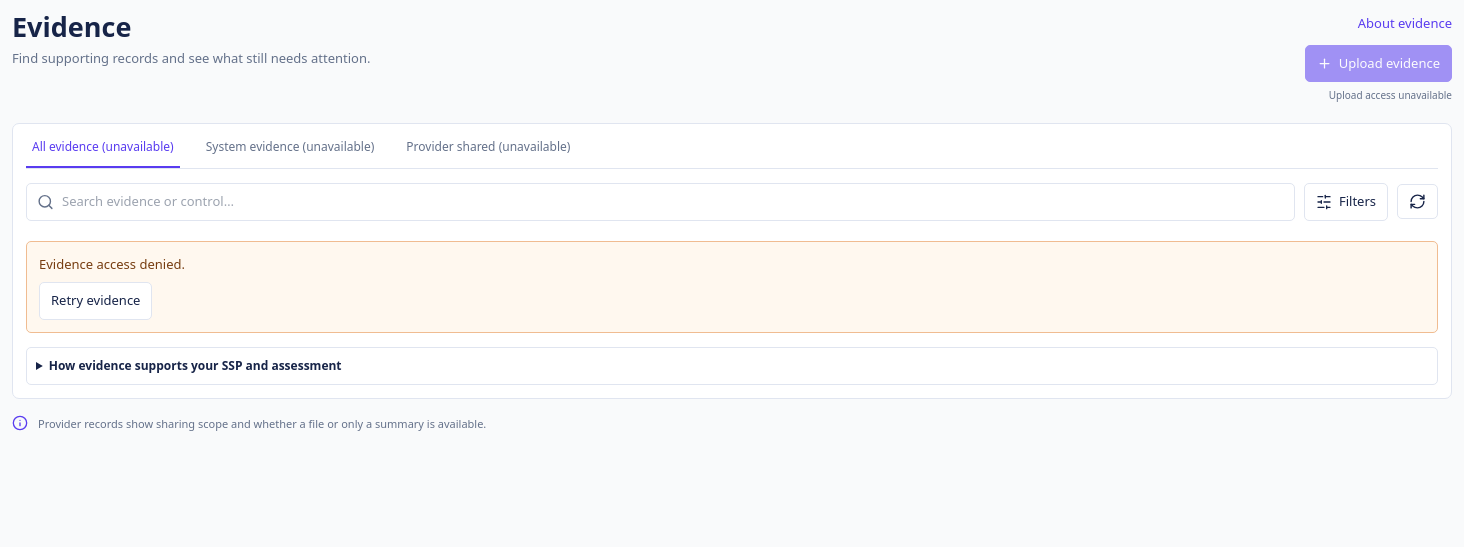
Test: Evidence catalog › distinguishes request failure and retries
This screenshot has width=1464, height=547.
Expected: the message shows "Evidence access denied.", [39,254,185,272]
Click the button "Retry evidence": [96, 301] box [39,282,152,320]
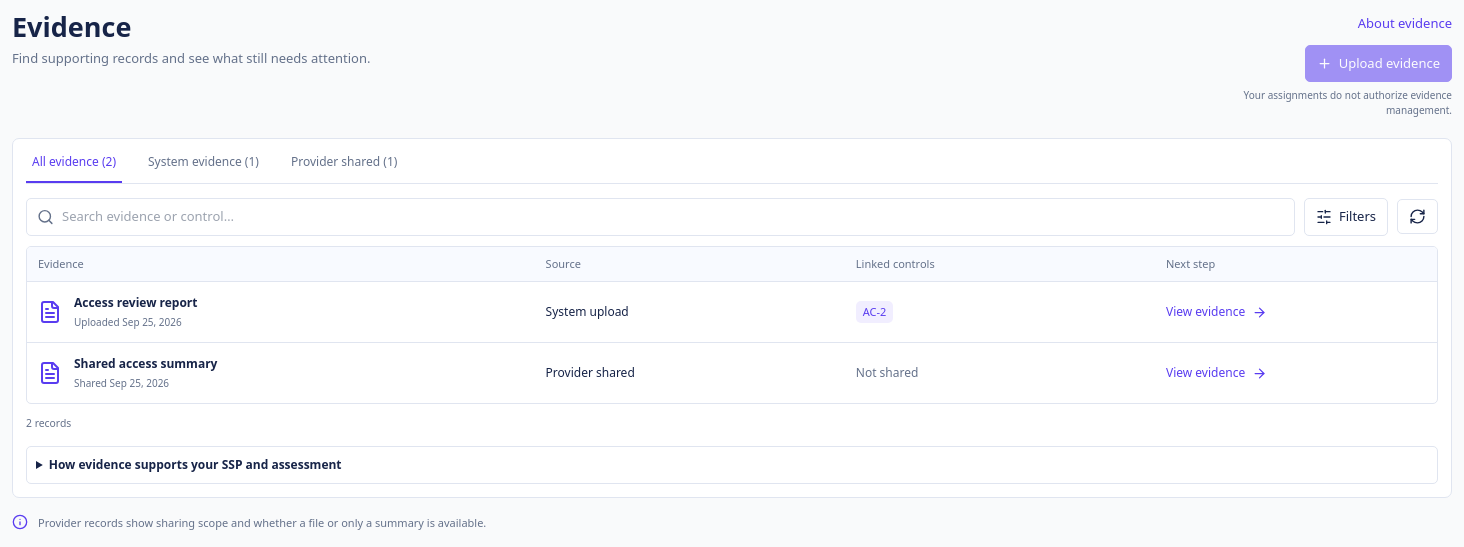
Result: the text "Access review report" is shown at [74,294,198,312]
